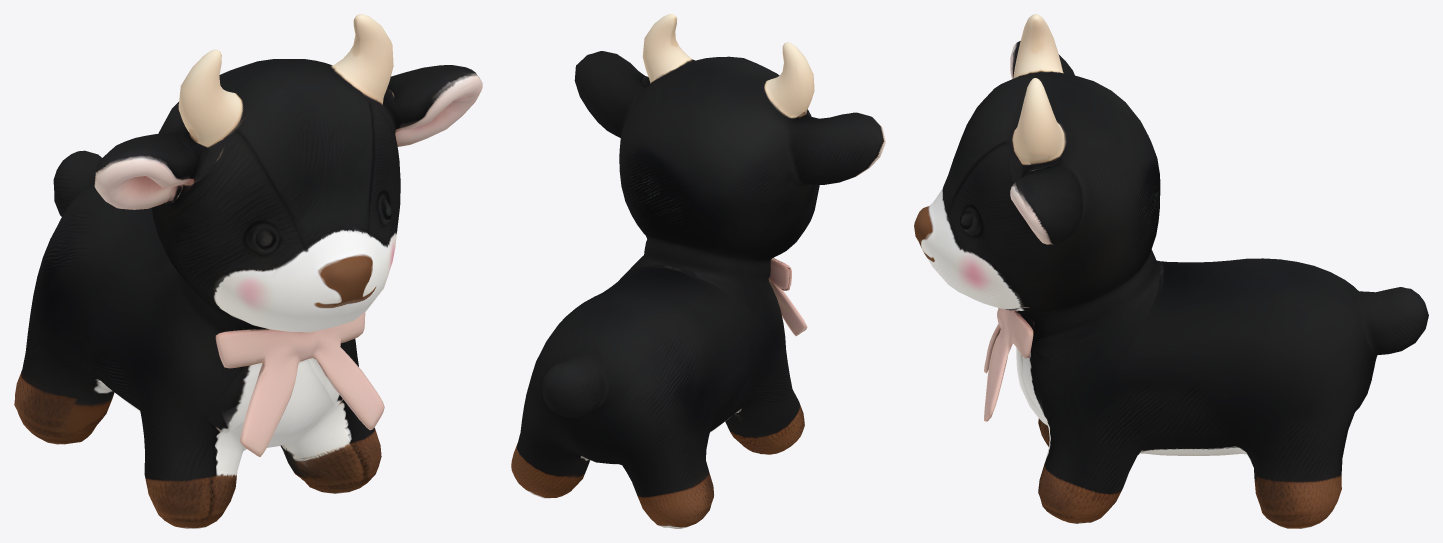
Rendered from base_basic_shaded2.glb.
3 renders of one model, left to right at view 1: azimuth 30°, elevation 25°; view 2: azimuth 150°, elevation 25°; view 3: azimuth 270°, elevation 25°, orthographic. The views are drawn at different scales.
Visible parts, largest first — view 1: model; view 2: model; view 3: model.
Boxes of the visible parts, left/top/right/bottom form: model: left=14, top=14, right=482, bottom=528; model: left=511, top=14, right=885, bottom=528; model: left=914, top=14, right=1428, bottom=528.
Bounding box in the file's own units: 1.48 × 1.8 × 1.9.
Materials: 1 (1 with a texture image).
